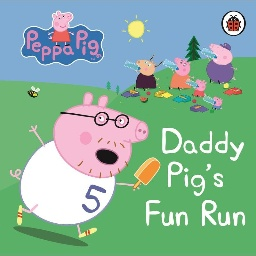Peppa: (191, 79, 207, 97)
